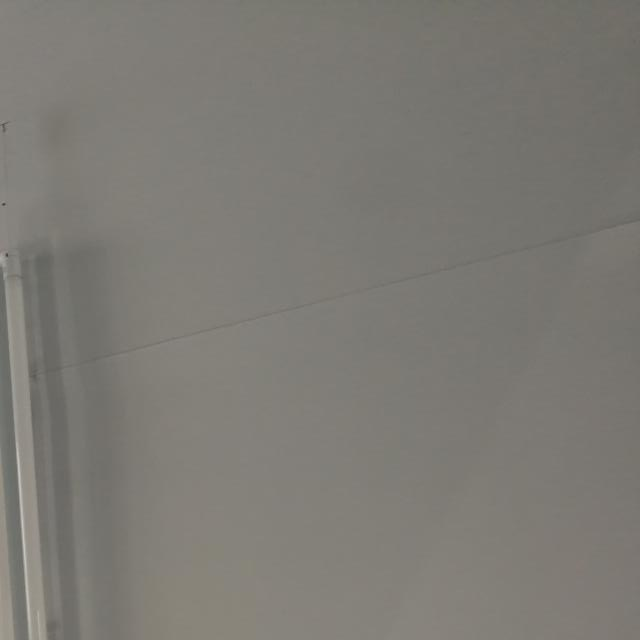fluorescent tube: (1, 243, 92, 640)
